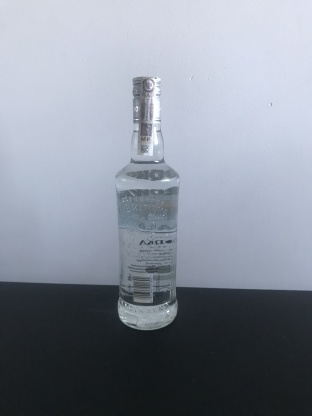nakretka: (130, 72, 163, 126)
